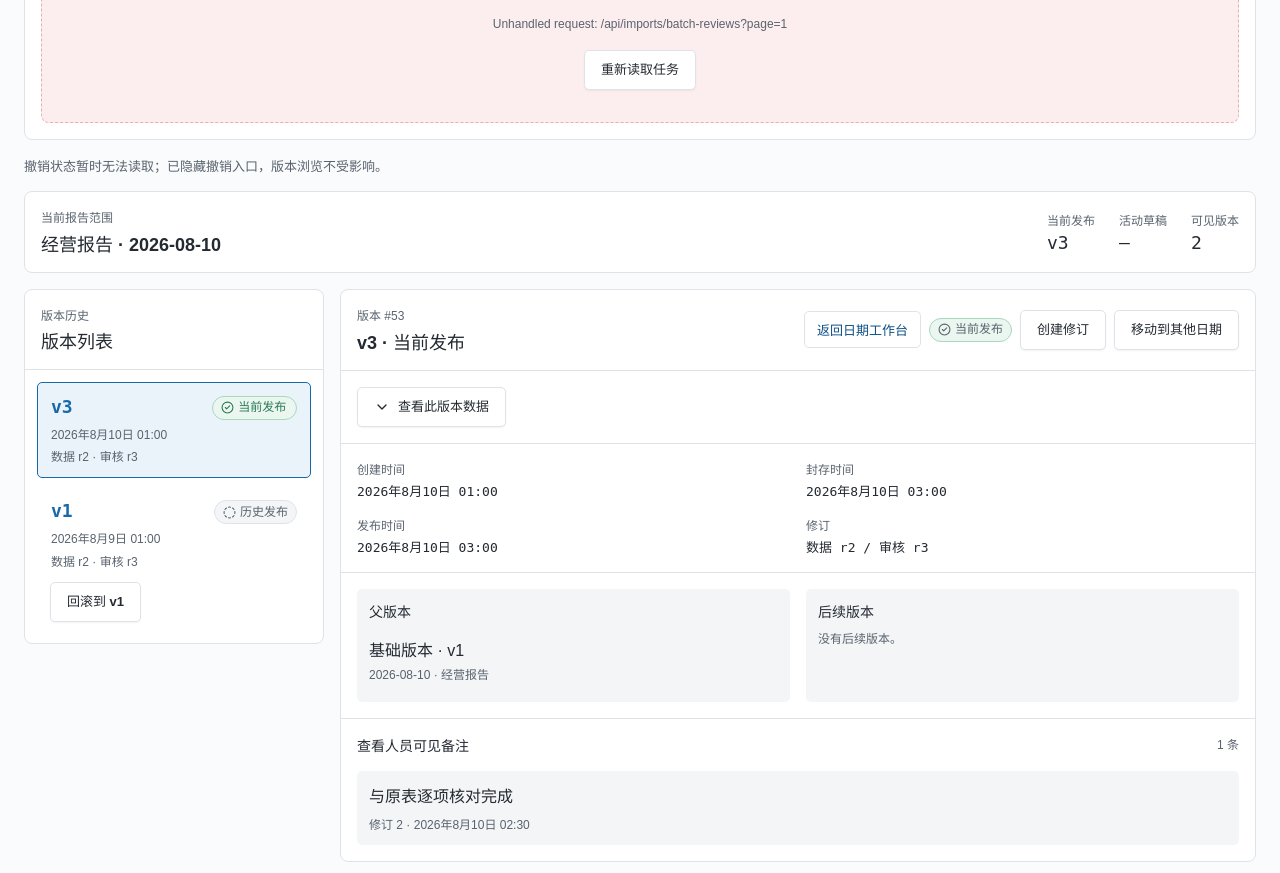
Test: VersionHistory › lets only an administrator roll the same dataset back with the current publication expectation
(page scrolled)
Click the button "回滚到 v1". click: [96, 602]
box: [50,582,141,622]
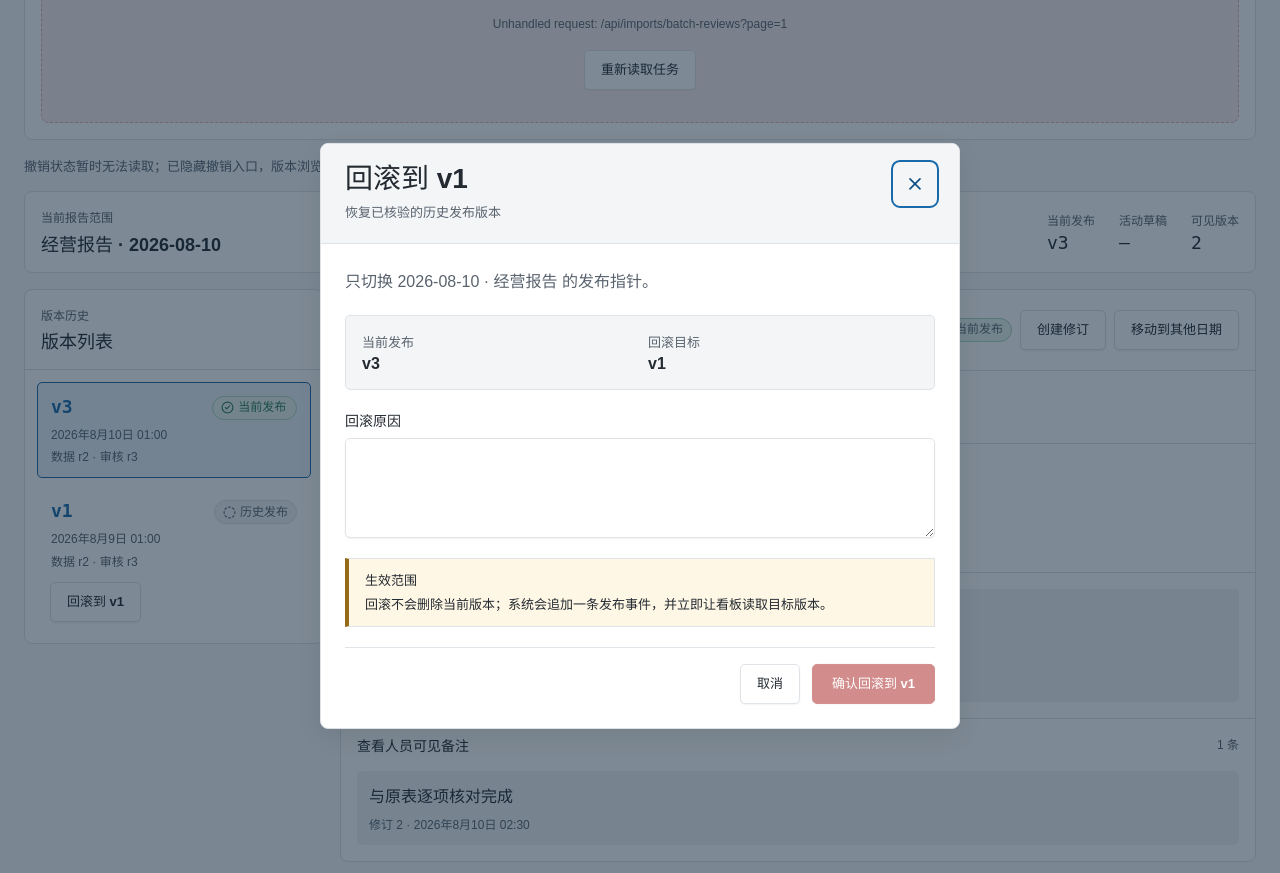
Result: the text "只切换 2026-08-10 · 经营报告 的发布指针。" is shown at [345,273,658,290]
Type "当前发布版本录入有误，恢复已核验版本" into the text box labelled "回滚原因". click: [640, 488]
box: [345,438,935,538]
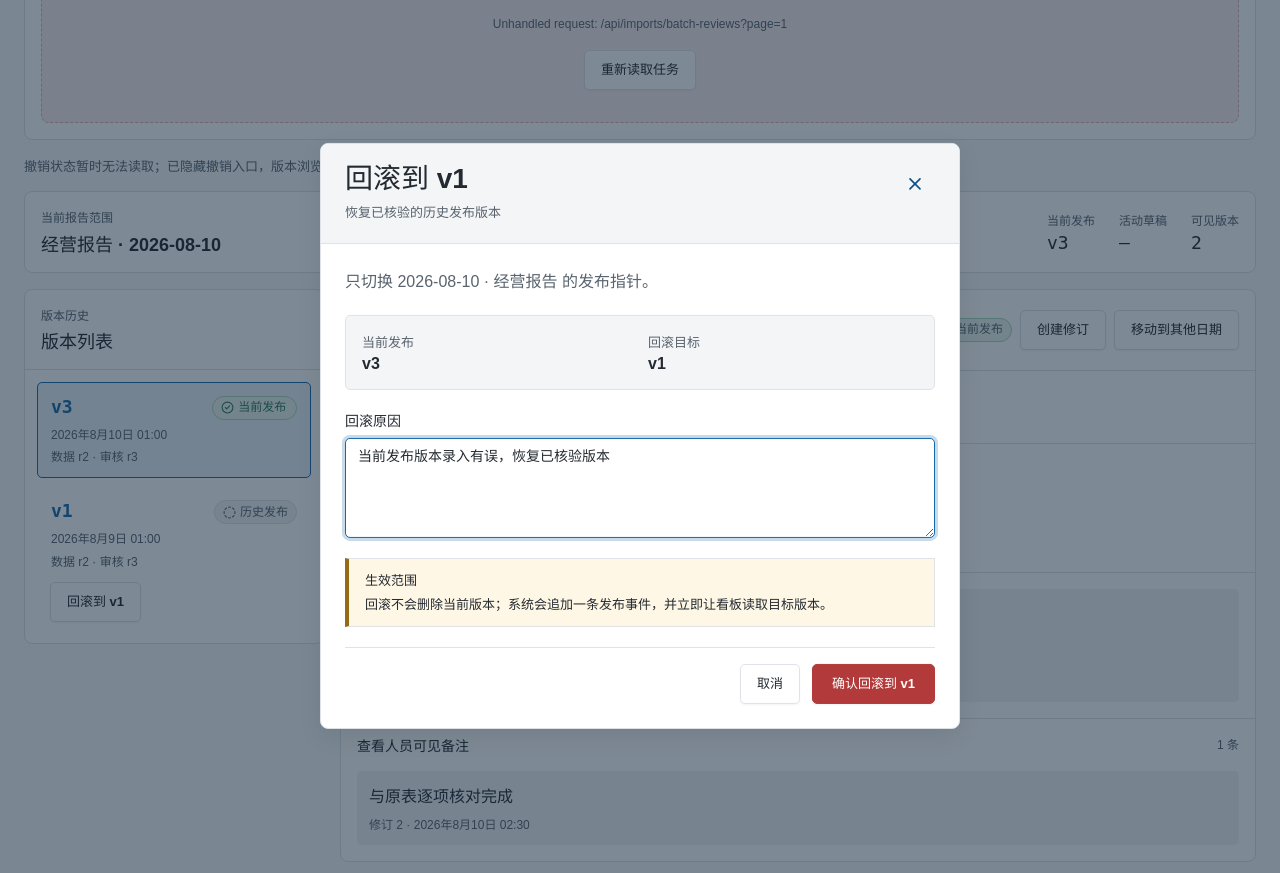
Click the button "确认回滚到 v1". click: [874, 684]
box: [812,664,935,704]
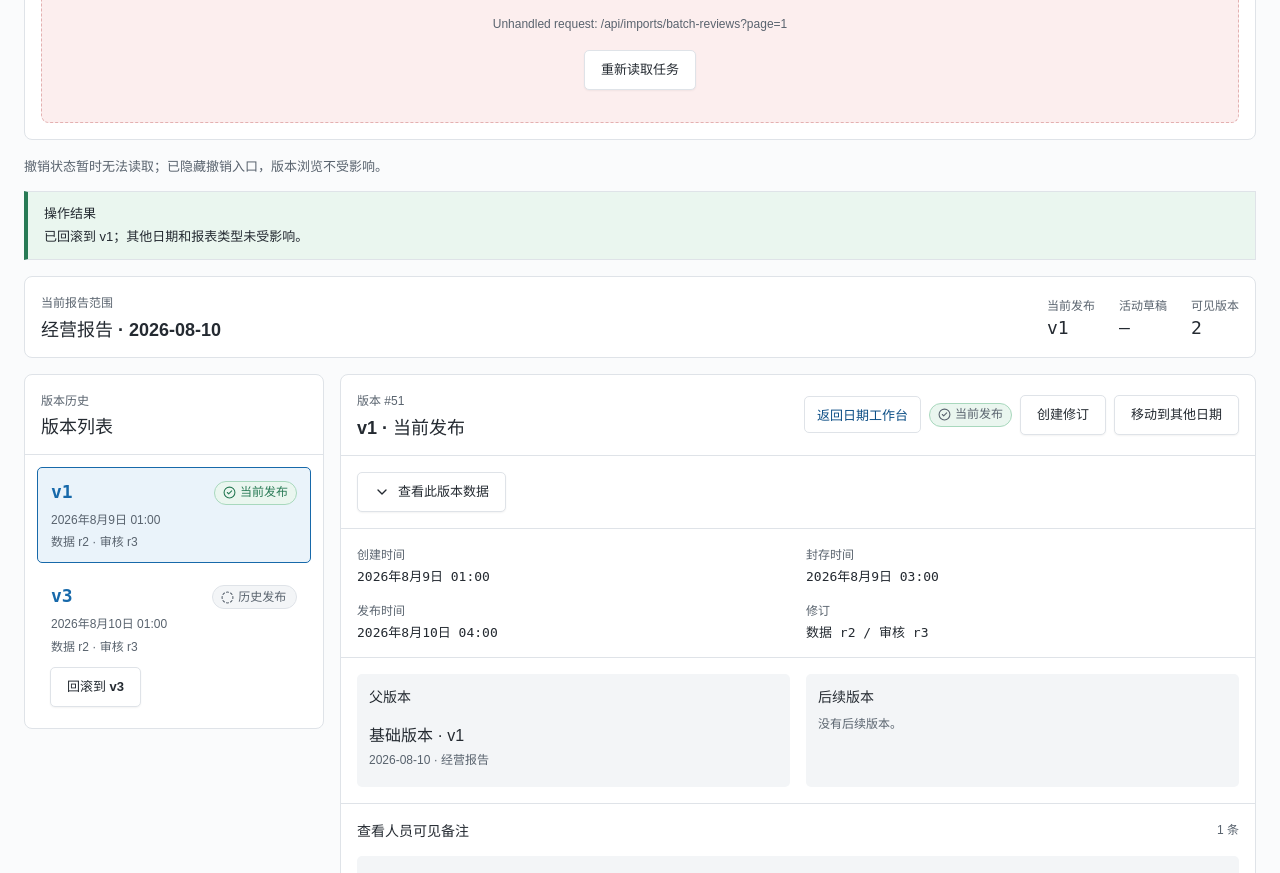
Expected: the text "当前发布" next to "活动草稿" is shown, [1047,299,1095,313]
Result: the text "已回滚到 v1；其他日期和报表类型未受影响。" is shown at [44,227,308,247]
